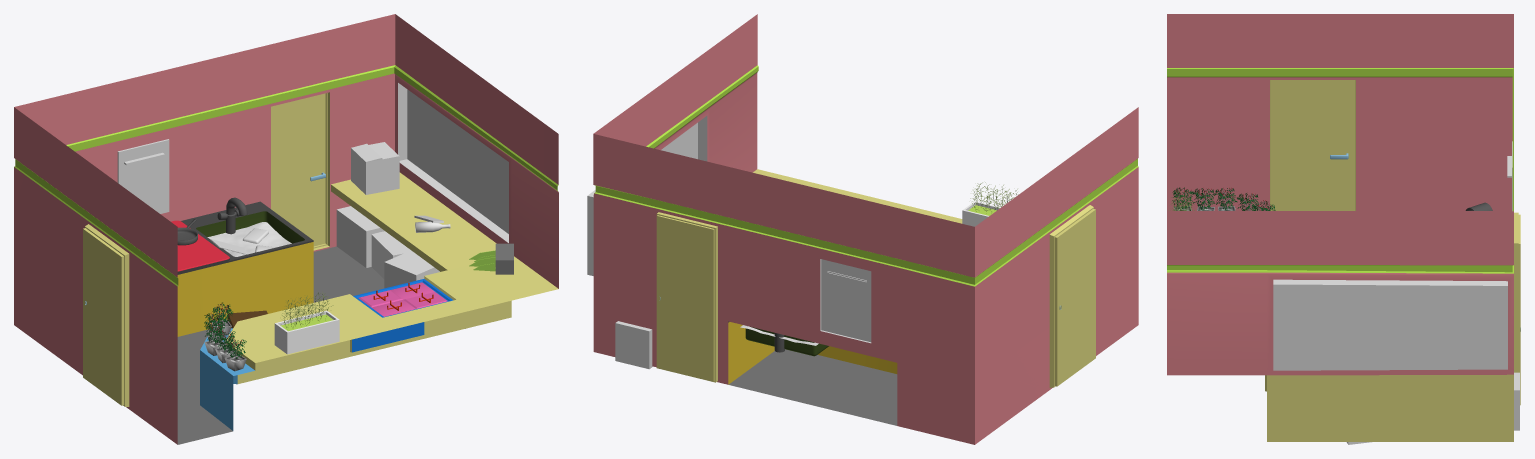
File: Arena 2.fbx
The picture shows the model from 3 angles, left to right: view 1: azimuth 30°, elevation 25°; view 2: azimuth 150°, elevation 25°; view 3: azimuth 270°, elevation 25°; orthographic projection. The views are drawn at different scales.
Visible parts, largest first — view 1: Wand, Plane, Wand.003, Wand.001, Cube.002, Wasser, Wand.002, Hahn; view 2: Wand, Plane, Wand.003, Wand.001; view 3: Wand, Wand.003.
Boxes of the visible parts, box(x1,y1,x2,y2) form: Wand: box(14, 14, 558, 444); Plane: box(171, 201, 313, 336); Wand.003: box(336, 206, 465, 328); Wand.001: box(274, 292, 339, 354); Cube.002: box(351, 142, 399, 194); Wasser: box(207, 222, 291, 256); Wand.002: box(469, 243, 513, 274); Hahn: box(217, 197, 247, 234); Wand: box(587, 14, 1138, 444); Plane: box(728, 321, 897, 384); Wand.003: box(615, 321, 652, 369); Wand.001: box(962, 182, 1018, 226); Wand: box(1167, 14, 1520, 441); Wand.003: box(1346, 372, 1519, 444).
Size of the model in its own units: 9264 by 4975 by 6737.
